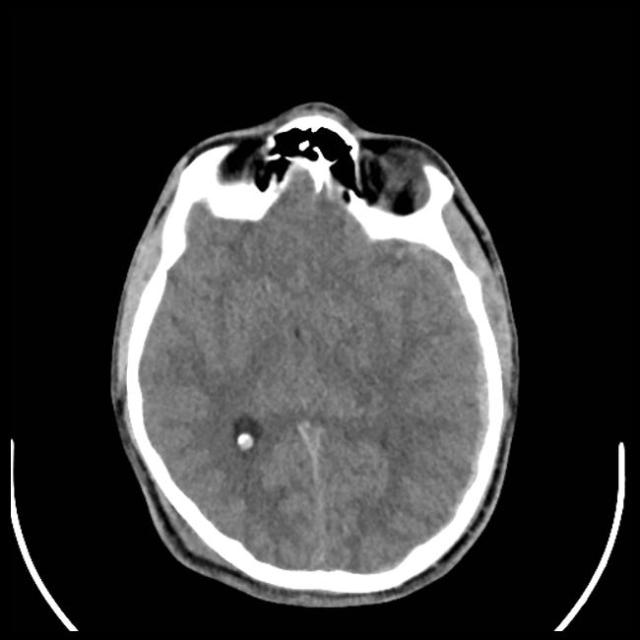lesion: (106, 100, 523, 604)
